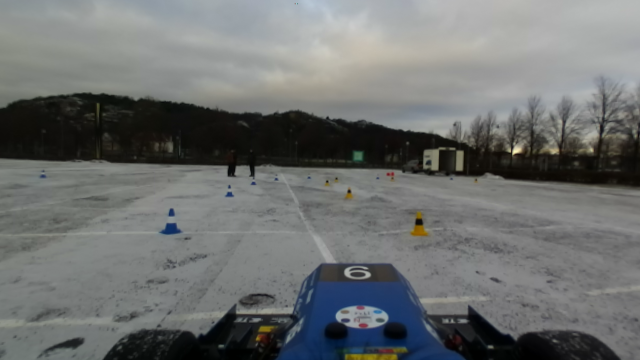blue: (159, 208, 182, 235)
yellow: (409, 210, 429, 238)
